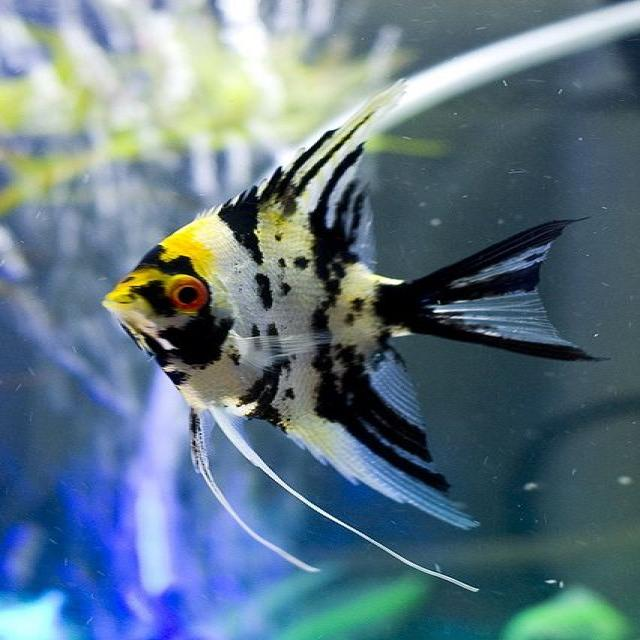AngelFish: (103, 94, 606, 531)
